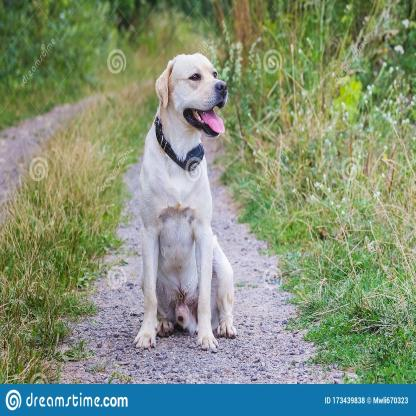dog: (134, 52, 237, 351)
